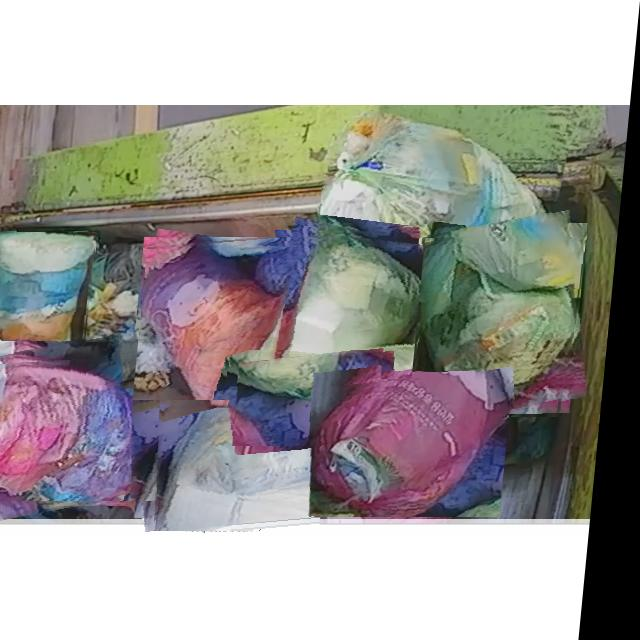general_trashbag: (322, 111, 553, 298), (426, 237, 582, 417), (267, 233, 427, 380), (0, 233, 100, 364)
other_trashbag: (319, 371, 517, 516), (165, 384, 334, 530), (0, 363, 176, 500), (147, 242, 292, 400), (244, 351, 387, 446)
